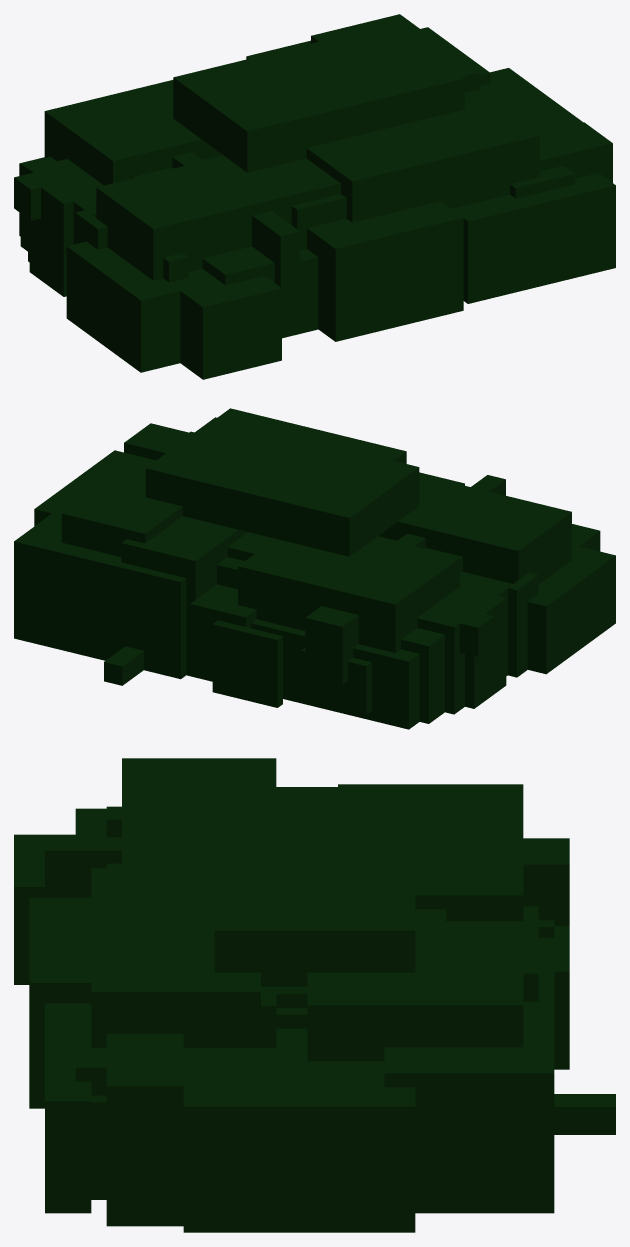
The model's file is bush1.obj.
The picture shows the model from 3 angles, top to bottom: view 1: azimuth 30°, elevation 25°; view 2: azimuth 150°, elevation 25°; view 3: azimuth 270°, elevation 25°; orthographic projection. The views are drawn at different scales.
Bounding box in the file's own units: 5 × 1.6 × 3.9.
Materials: 1 (1 with a texture image).
